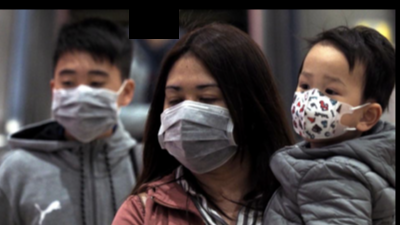with_mask: (158, 76, 238, 173), (50, 63, 121, 142), (289, 66, 361, 141)
